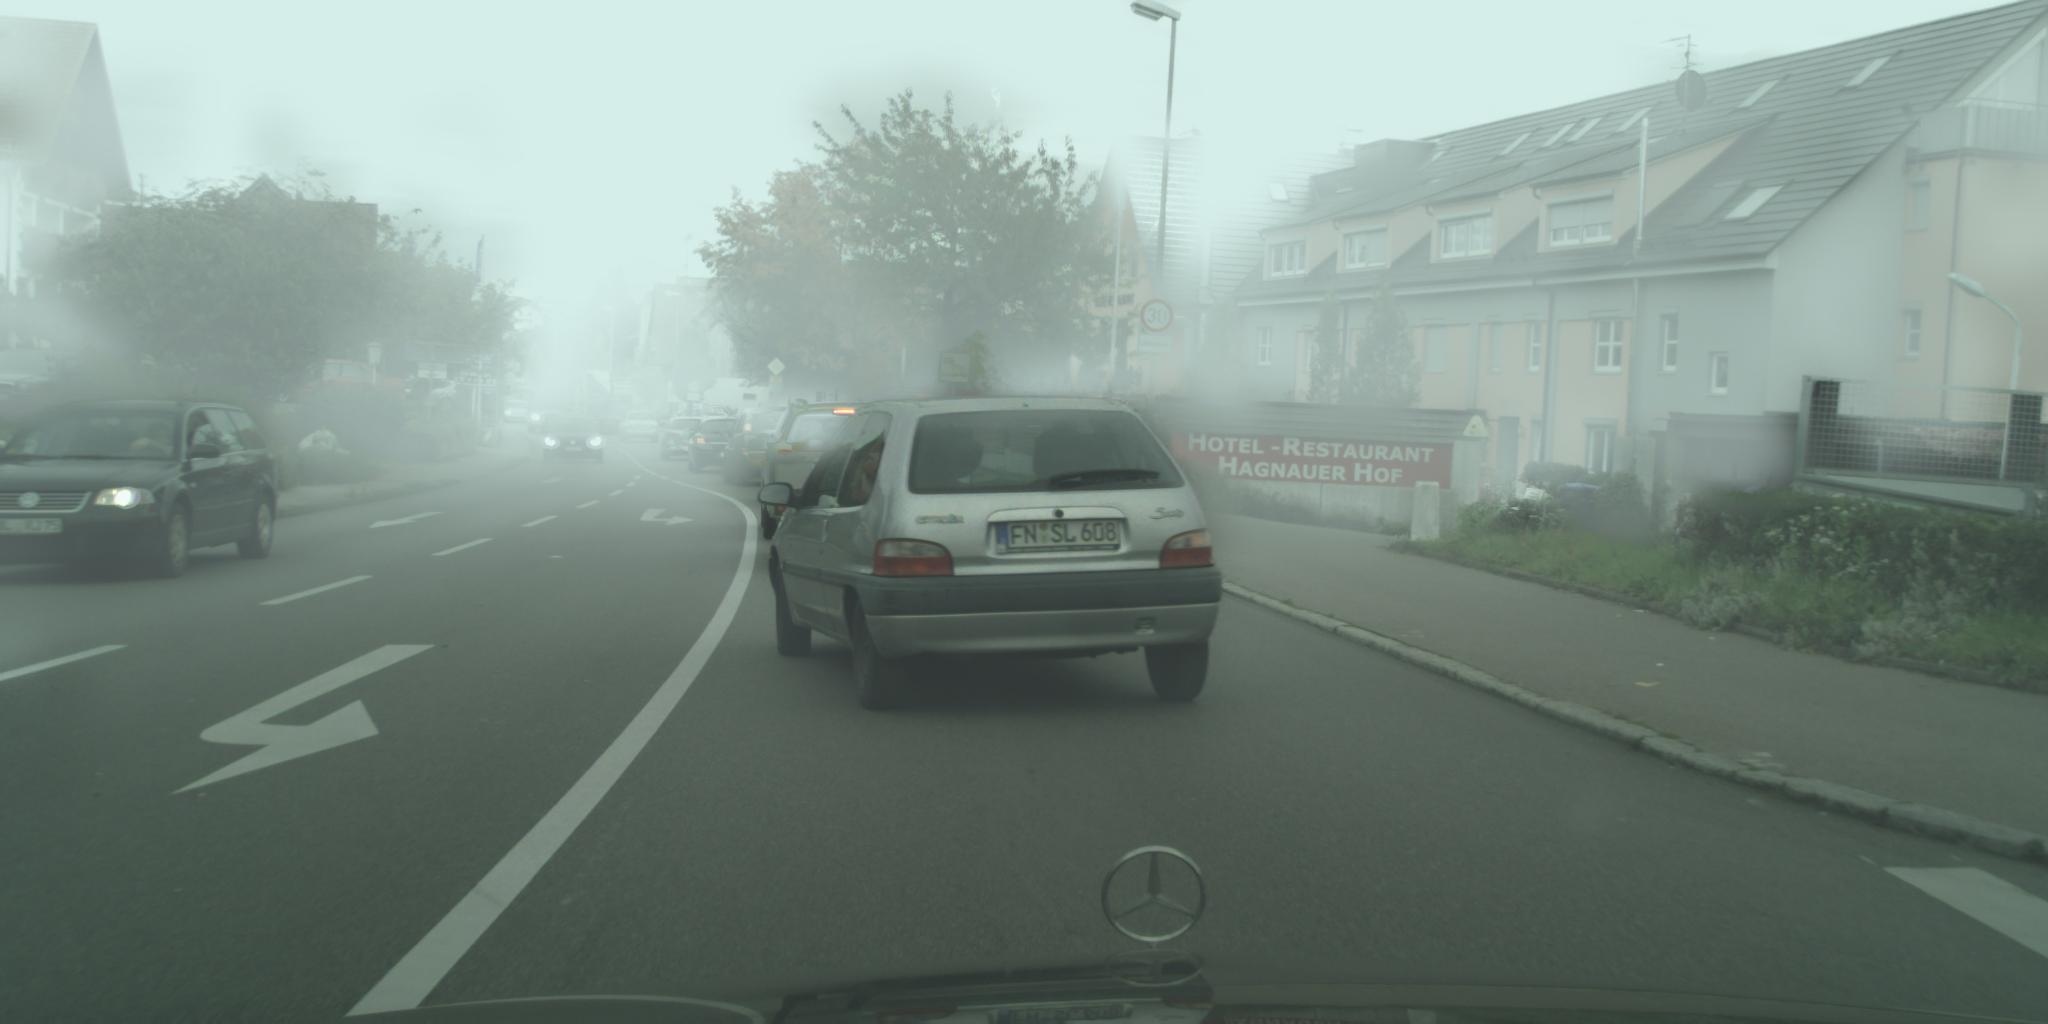car: (758, 394, 1224, 714), (1, 394, 278, 581), (748, 400, 884, 543), (1, 345, 127, 427), (718, 408, 820, 488), (270, 359, 409, 406), (687, 417, 754, 475), (394, 375, 478, 418), (543, 413, 605, 466), (661, 414, 711, 462), (526, 398, 569, 436), (620, 411, 660, 444), (504, 400, 534, 424)
truck: (569, 368, 633, 435)
